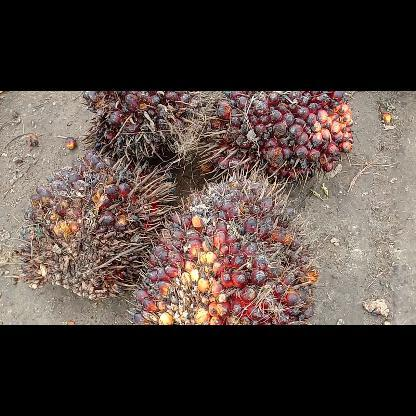TBS masak: (127, 165, 322, 323), (2, 150, 178, 298), (198, 91, 352, 187), (81, 91, 203, 165)
